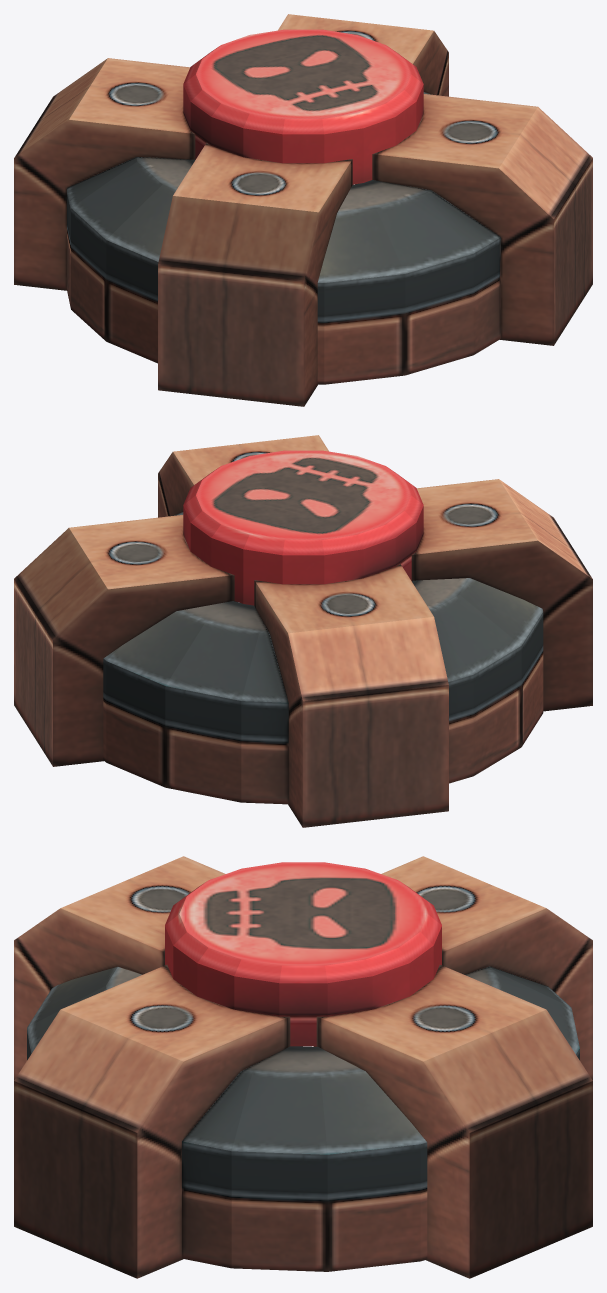
Rendered from LandMines.fbx.
3 renders of one model, top to bottom at view 1: azimuth 30°, elevation 25°; view 2: azimuth 150°, elevation 25°; view 3: azimuth 270°, elevation 25°, orthographic. The views are drawn at different scales.
Parts seen in each view (by area): view 1: LandMines_0_mesh; view 2: LandMines_0_mesh; view 3: LandMines_0_mesh.
Part boxes in pixels (x1,y1,x2,y2): LandMines_0_mesh: (14, 14, 592, 406); LandMines_0_mesh: (14, 435, 592, 827); LandMines_0_mesh: (14, 856, 592, 1278).
Bounding box in the file's own units: 52.83 × 24.68 × 52.83.
